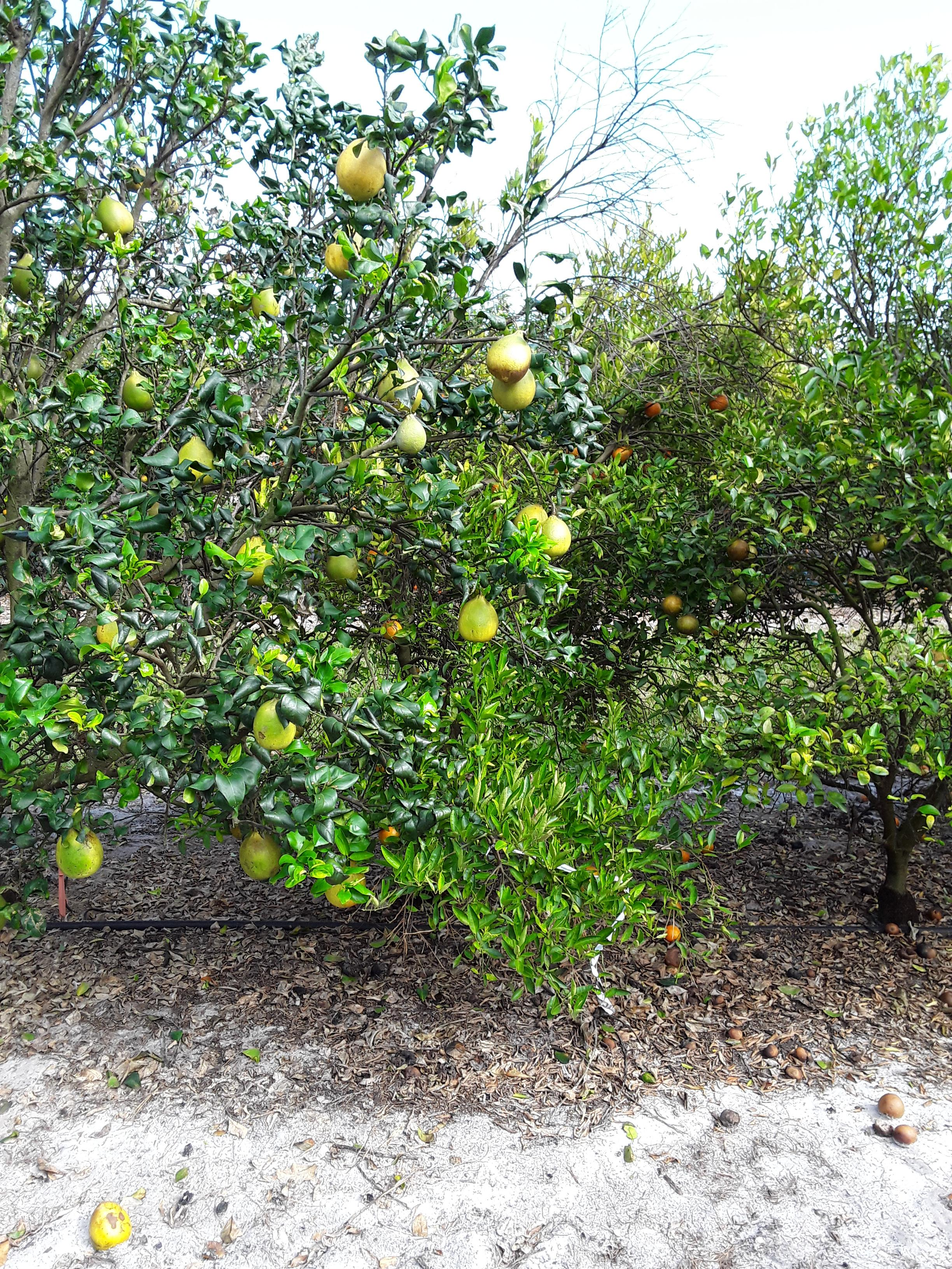fruit_on_ground: (333, 136, 391, 201), (372, 359, 425, 414), (250, 696, 301, 751), (54, 824, 105, 878), (231, 534, 280, 586), (237, 829, 285, 881), (483, 334, 534, 381), (455, 594, 501, 643), (173, 434, 218, 483), (490, 369, 540, 412), (94, 196, 136, 239), (119, 367, 159, 412), (536, 514, 575, 558), (94, 614, 139, 652), (321, 238, 361, 280), (321, 548, 362, 587), (393, 415, 431, 457), (8, 262, 43, 302), (248, 284, 284, 320), (338, 868, 373, 904), (514, 499, 549, 534), (324, 878, 360, 911), (159, 311, 192, 344), (137, 499, 171, 531), (53, 276, 87, 308), (226, 817, 257, 846), (583, 465, 615, 492), (519, 576, 548, 605), (18, 355, 47, 384), (122, 164, 153, 191), (923, 645, 952, 673), (375, 820, 404, 848), (724, 535, 751, 563), (381, 616, 408, 643), (863, 529, 891, 555), (658, 591, 685, 616), (362, 544, 391, 567), (562, 437, 588, 461), (675, 612, 701, 636), (610, 442, 635, 465), (725, 582, 749, 605), (706, 391, 731, 413), (641, 397, 664, 420), (576, 736, 598, 758), (1, 884, 21, 907), (663, 923, 683, 944), (916, 760, 933, 777)
fruit_on_tree: (86, 1199, 133, 1254), (877, 1091, 906, 1118), (892, 1122, 919, 1146), (715, 1106, 741, 1127), (874, 1119, 901, 1138), (395, 1064, 421, 1083), (662, 946, 684, 968), (915, 940, 937, 960), (759, 1041, 780, 1060), (883, 919, 903, 938), (784, 1063, 805, 1081), (937, 986, 952, 1008), (675, 846, 693, 864), (368, 961, 387, 978), (726, 1025, 745, 1042), (928, 906, 946, 923), (794, 1044, 812, 1061), (701, 840, 716, 855), (856, 790, 872, 804), (889, 813, 903, 828)
